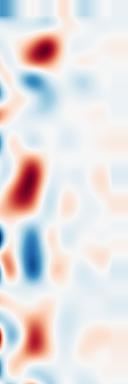filament: (1, 151, 53, 222), (16, 300, 60, 370), (17, 31, 66, 79)
